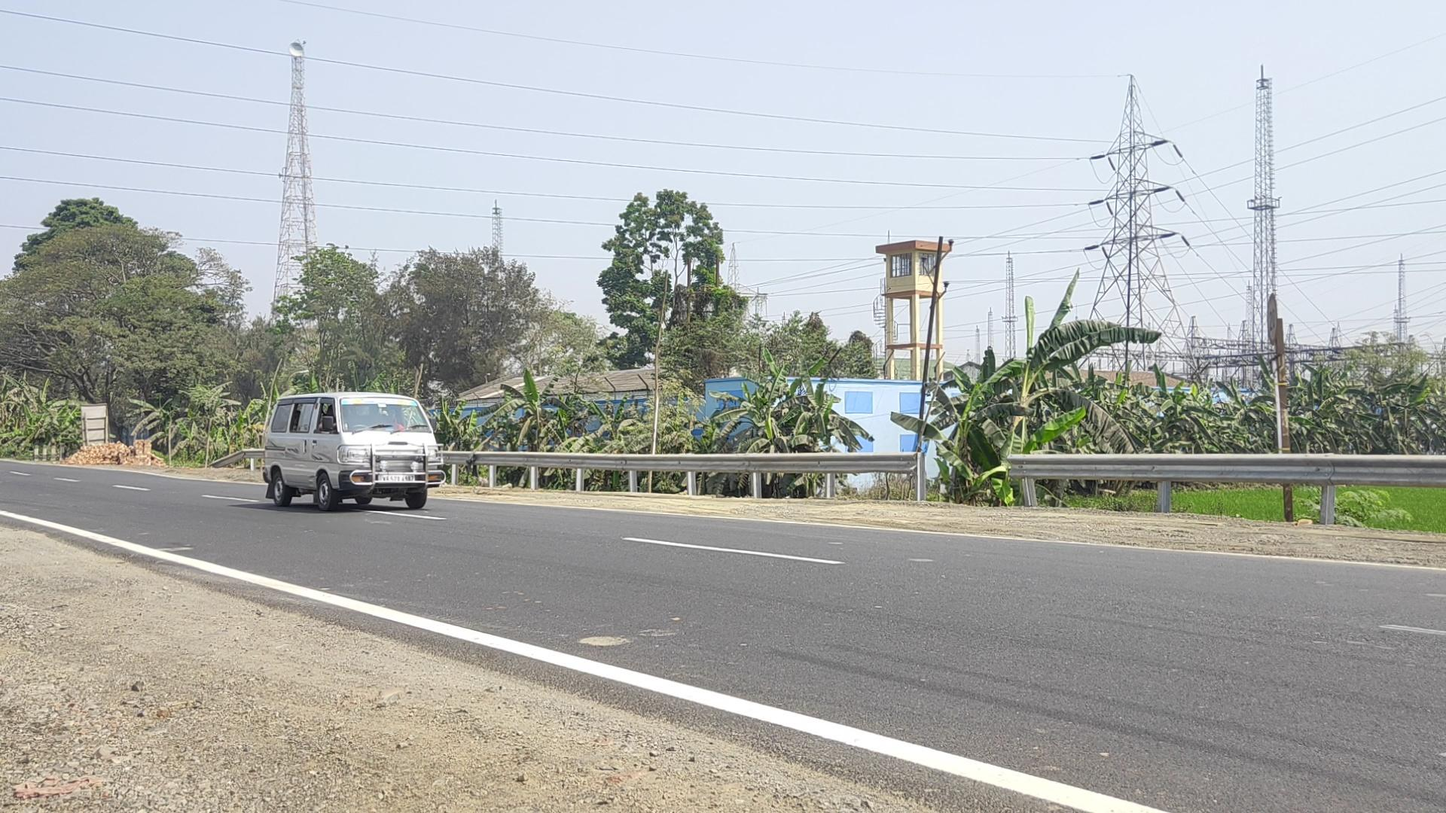van: (262, 391, 446, 511)
